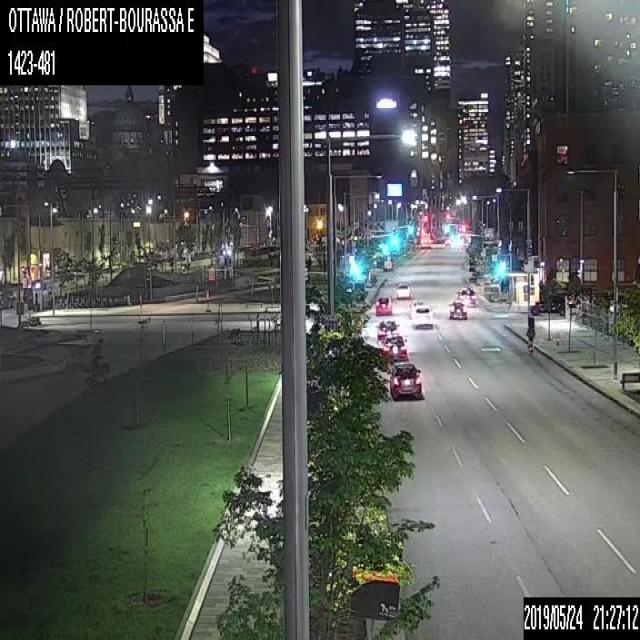construction: (350, 542, 403, 618)
cyclist: (525, 326, 534, 355)
vehicle: (389, 364, 421, 399), (381, 332, 408, 363), (375, 319, 399, 344), (410, 304, 432, 328), (456, 286, 476, 307), (448, 300, 467, 320), (375, 296, 391, 314), (395, 282, 410, 299)
